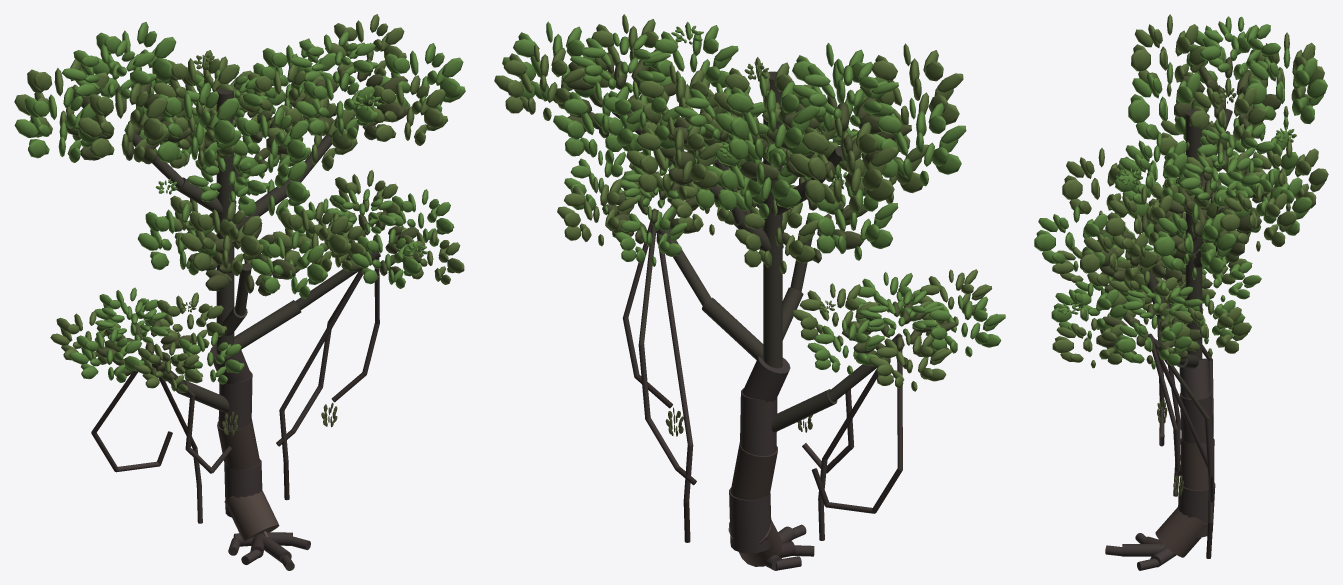
The model's file is CMU3DBroadleafTreeLarge03.glb.
3 views of the same model, side by side, from view 1: azimuth 30°, elevation 25°; view 2: azimuth 150°, elevation 25°; view 3: azimuth 270°, elevation 25° (orthographic). The views are drawn at different scales.
Visible parts, largest first — view 1: irregular rounded leaf cluster (×33), off-center crown cluster (×6), rounded leaf core (×6), inferred hidden trunk continuation, source curved trunk 1, source curved trunk 3, source curved trunk 4, source curved trunk 2, inferred crown branch 6.1, inferred hanging attachment 5, inferred crown branch 6.2, inferred crown branch 4.1 (+3 smaller); view 2: irregular rounded leaf cluster (×30), off-center crown cluster (×5), rounded leaf core (×6), inferred hidden trunk continuation, source curved trunk 2, source curved trunk 4, source curved trunk 3, source curved trunk 5, inferred crown branch 6.1, inferred hanging attachment 5, inferred crown branch 4.1, inferred crown branch 6.2 (+3 smaller); view 3: irregular rounded leaf cluster (×32), off-center crown cluster (×4), rounded leaf core (×5), inferred hidden trunk continuation, source curved trunk 1, source curved trunk 3, source curved trunk 4, source curved trunk 2, source curved trunk 5, inferred hanging attachment 5, source root 2.1, inferred hanging attachment 6 (+1 smaller).
Part boxes in pixels (left/top/right/bottom): irregular rounded leaf cluster (×33): left=14, top=14, right=465, bottom=392; off-center crown cluster (×6): left=62, top=31, right=396, bottom=342; rounded leaf core (×6): left=64, top=60, right=423, bottom=381; inferred hidden trunk continuation: left=216, top=88, right=234, bottom=354; source curved trunk 1: left=224, top=490, right=279, bottom=541; source curved trunk 3: left=217, top=419, right=259, bottom=469; source curved trunk 4: left=218, top=371, right=252, bottom=430; source curved trunk 2: left=224, top=459, right=262, bottom=517; inferred crown branch 6.1: left=234, top=300, right=301, bottom=349; inferred hanging attachment 5: left=279, top=267, right=367, bottom=411; inferred crown branch 6.2: left=295, top=251, right=380, bottom=309; inferred crown branch 4.1: left=176, top=379, right=229, bottom=412; irregular rounded leaf cluster (×30): left=494, top=14, right=1005, bottom=391; off-center crown cluster (×5): left=570, top=32, right=943, bottom=336; rounded leaf core (×6): left=547, top=52, right=956, bottom=369; inferred hidden trunk continuation: left=763, top=71, right=782, bottom=368; source curved trunk 2: left=729, top=487, right=771, bottom=553; source curved trunk 4: left=740, top=388, right=777, bottom=456; source curved trunk 3: left=731, top=442, right=777, bottom=499; source curved trunk 5: left=742, top=356, right=790, bottom=402; inferred crown branch 6.1: left=702, top=297, right=763, bottom=360; inferred hanging attachment 5: left=656, top=210, right=692, bottom=445; inferred crown branch 4.1: left=771, top=389, right=837, bottom=432; inferred crown branch 6.2: left=657, top=228, right=711, bottom=305; irregular rounded leaf cluster (×32): left=1034, top=14, right=1328, bottom=369; off-center crown cluster (×4): left=1122, top=16, right=1280, bottom=320; rounded leaf core (×5): left=1093, top=57, right=1282, bottom=364; inferred hidden trunk continuation: left=1185, top=109, right=1202, bottom=359; source curved trunk 1: left=1155, top=507, right=1207, bottom=557; source curved trunk 3: left=1180, top=438, right=1214, bottom=490; source curved trunk 4: left=1179, top=391, right=1213, bottom=443; source curved trunk 2: left=1178, top=482, right=1215, bottom=537; source curved trunk 5: left=1179, top=358, right=1210, bottom=399; inferred hanging attachment 5: left=1147, top=333, right=1213, bottom=470; source root 2.1: left=1122, top=544, right=1165, bottom=556; inferred hanging attachment 6: left=1148, top=335, right=1177, bottom=429.
Size of the model in its own units: 3.41 by 3.86 by 2.16.
